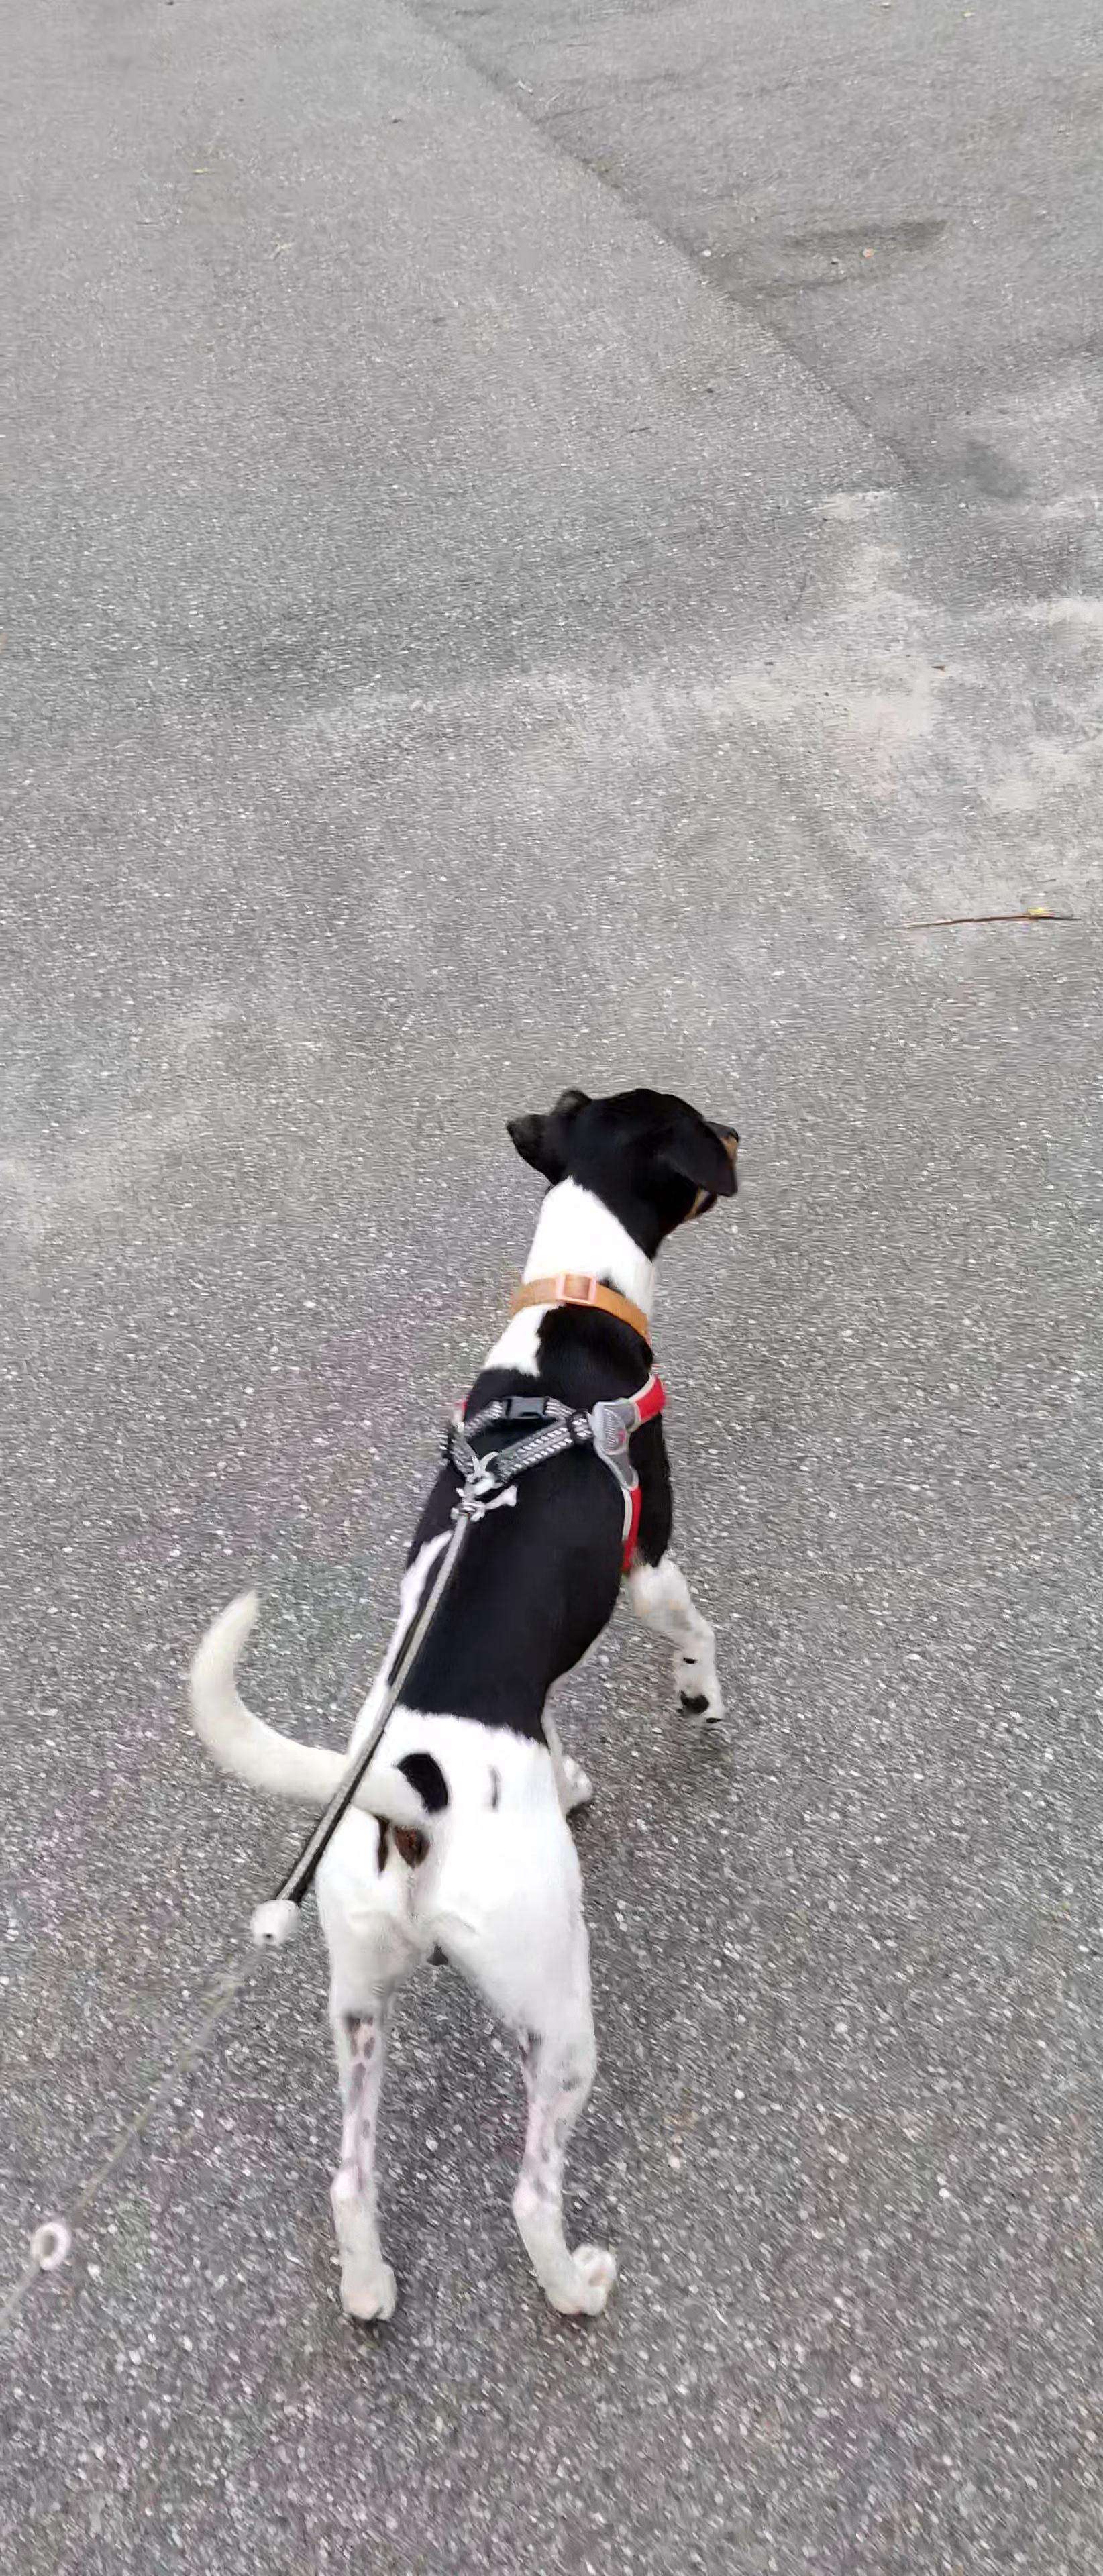Dog: (168, 1083, 763, 2334)
